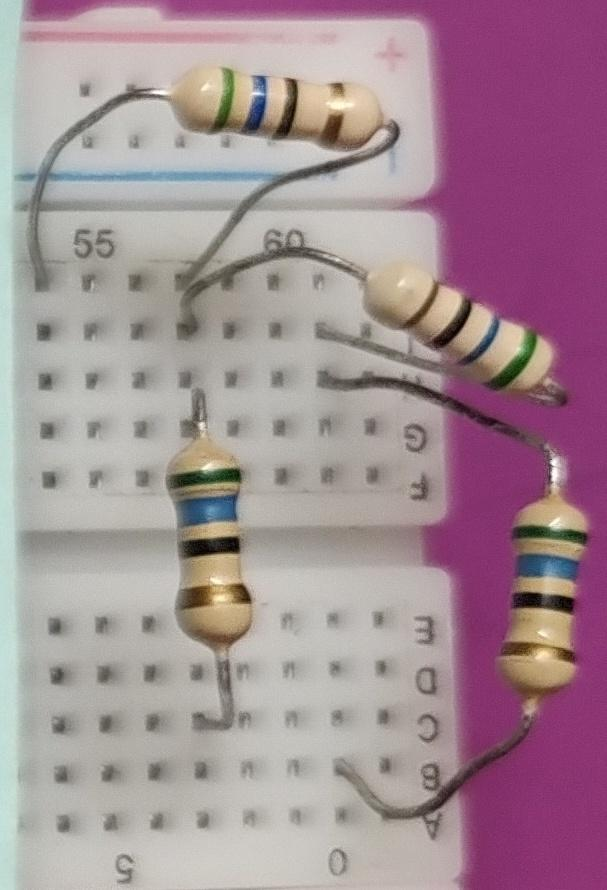resistor: (363, 255, 560, 410), (158, 422, 278, 662), (162, 60, 395, 173), (502, 490, 588, 707)
